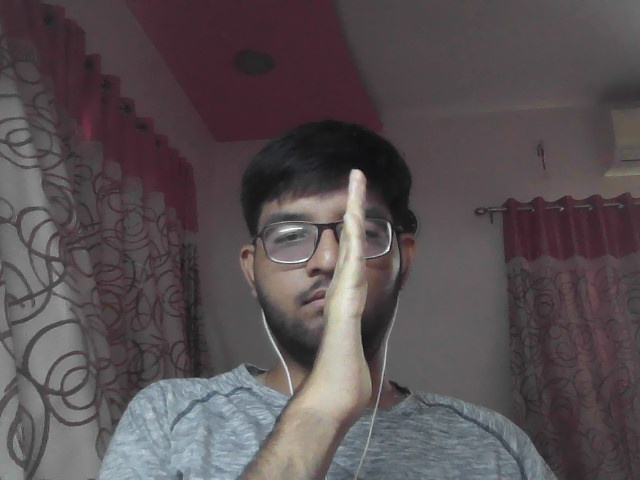માતા: (294, 154, 437, 434)
